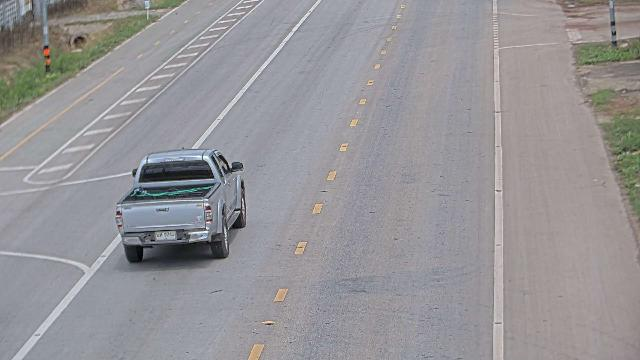pickup-truck: (114, 147, 247, 263)
